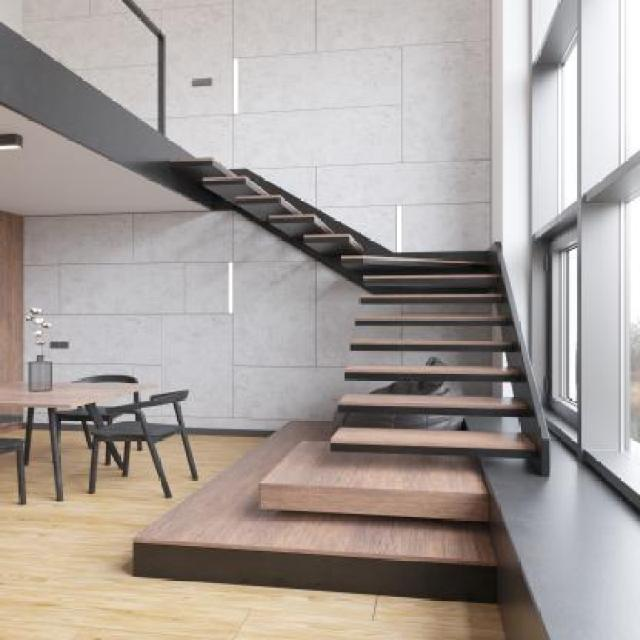stair: (108, 127, 572, 616)
